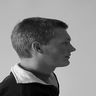ear: (29, 37, 47, 58)
